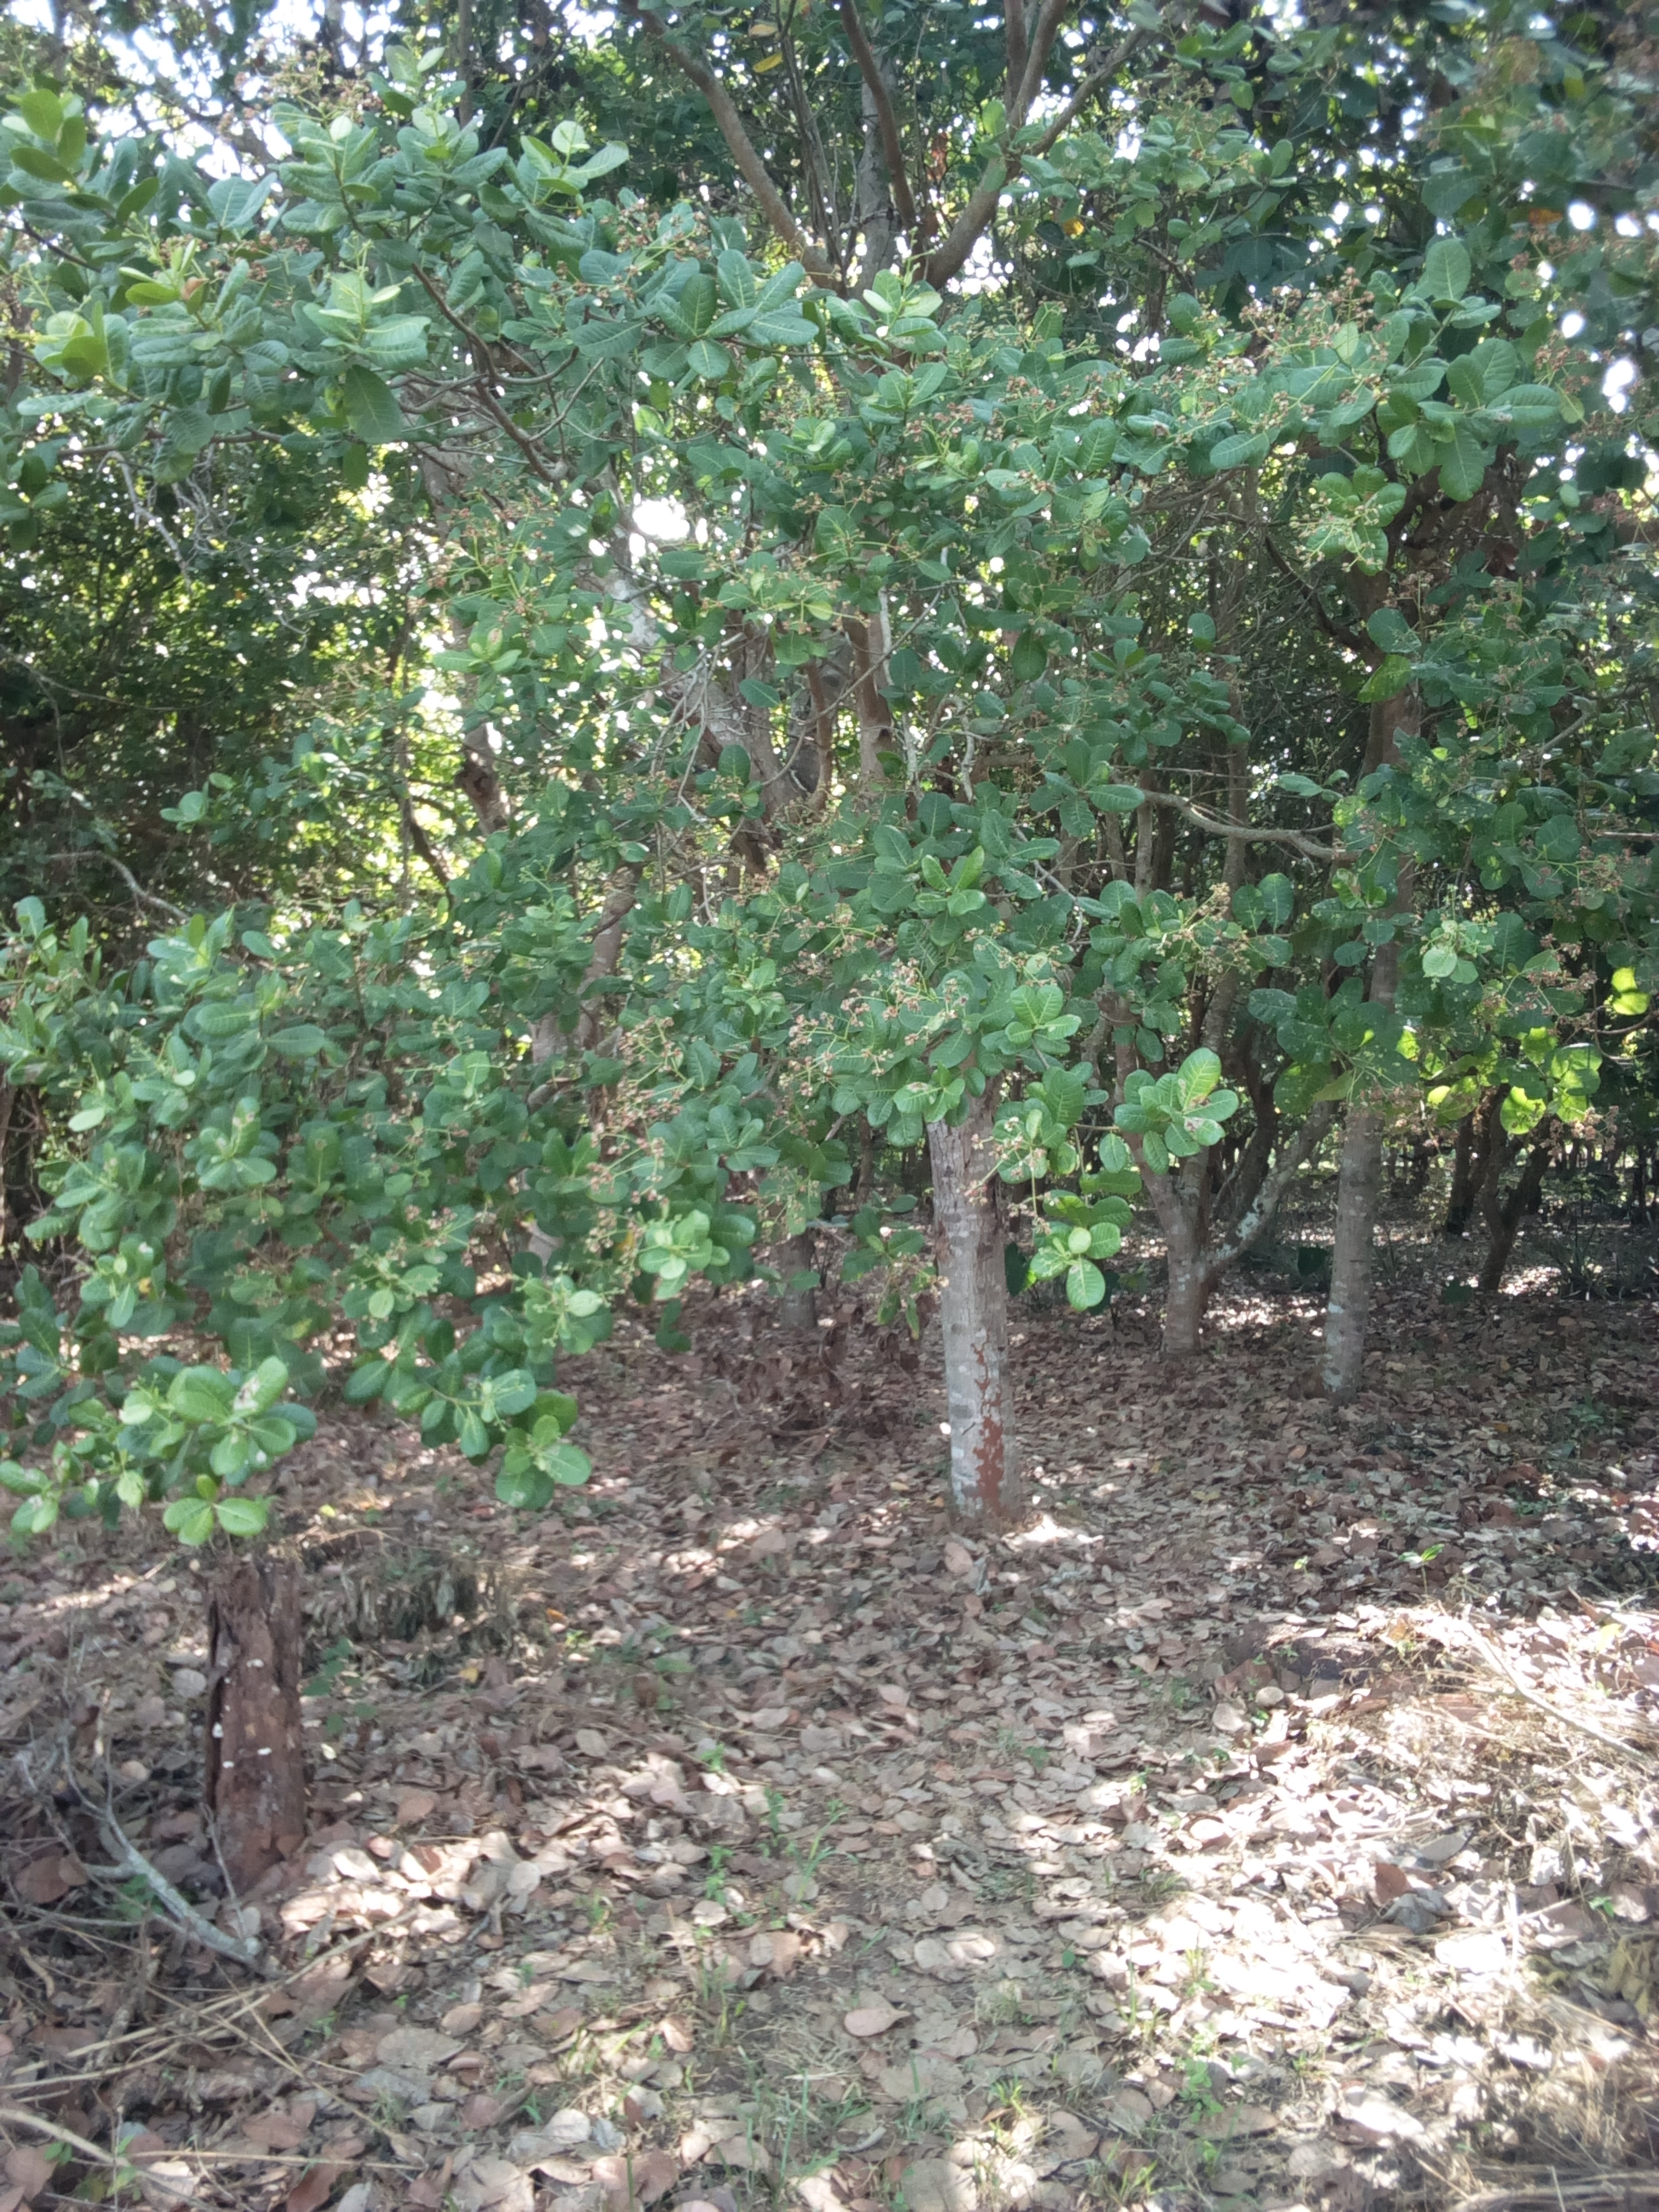Termites: (976, 1390, 1016, 1522)
